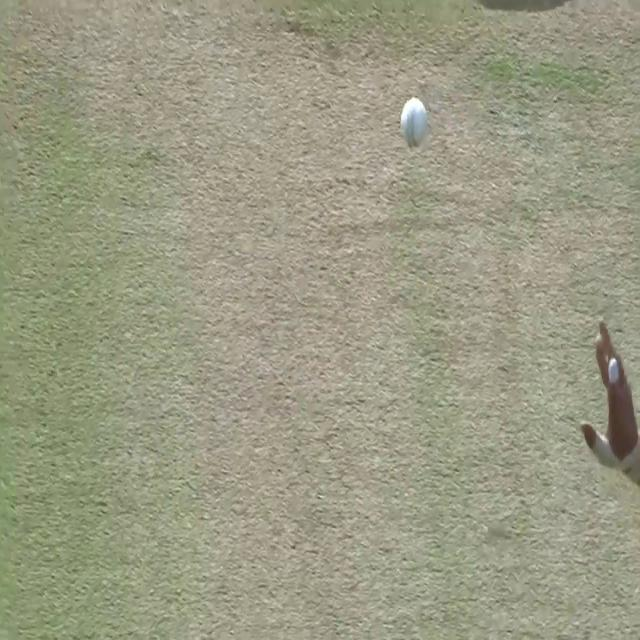ball: (398, 92, 430, 154)
